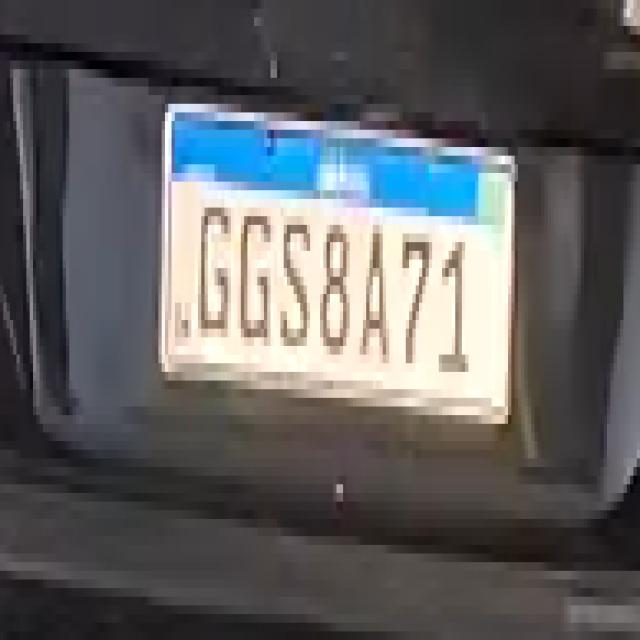Placa_mercosul_carro: (159, 95, 517, 425)
